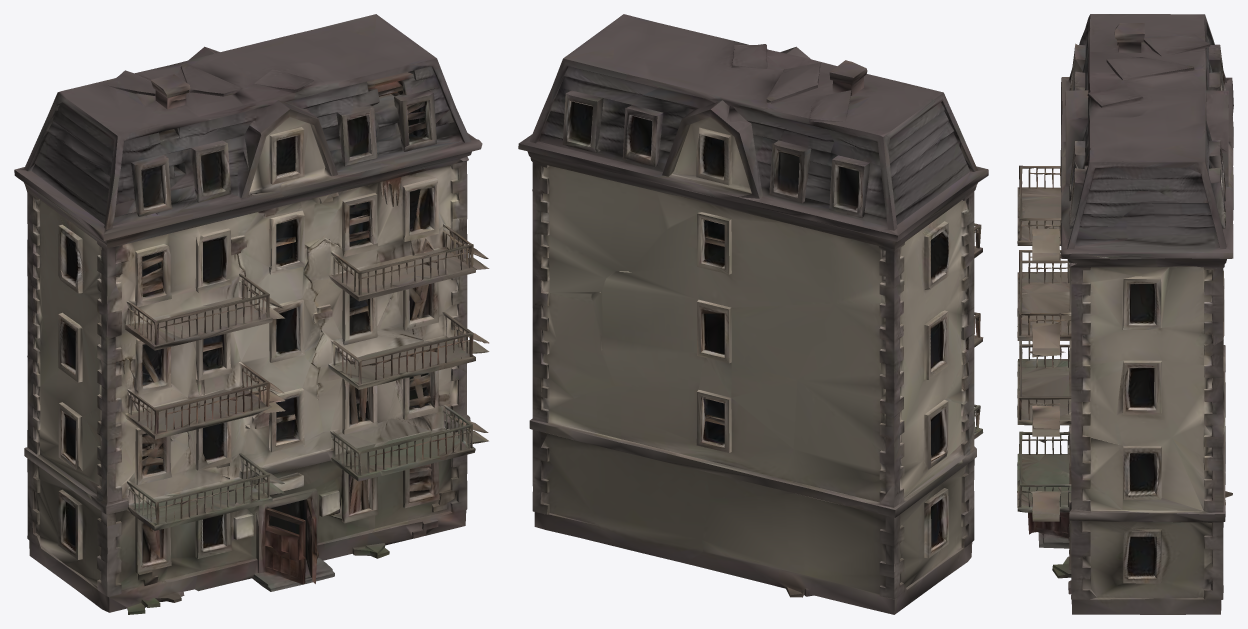
The model's file is apartments_idle.glb.
3 views of the same model, side by side, from view 1: azimuth 30°, elevation 25°; view 2: azimuth 150°, elevation 25°; view 3: azimuth 270°, elevation 25° (orthographic). The views are drawn at different scales.
Visible parts, largest first — view 1: tripo_node_1144a3e7-fc80-4781-9c59-1bc141052936; view 2: tripo_node_1144a3e7-fc80-4781-9c59-1bc141052936; view 3: tripo_node_1144a3e7-fc80-4781-9c59-1bc141052936.
Boxes of the visible parts, left/top/right/bottom form: tripo_node_1144a3e7-fc80-4781-9c59-1bc141052936: left=14, top=14, right=489, bottom=614; tripo_node_1144a3e7-fc80-4781-9c59-1bc141052936: left=518, top=14, right=988, bottom=614; tripo_node_1144a3e7-fc80-4781-9c59-1bc141052936: left=1017, top=14, right=1233, bottom=614.
Bounding box in the file's own units: 11.99 × 14.77 × 6.21.
Materials: 1 (1 with a texture image).
